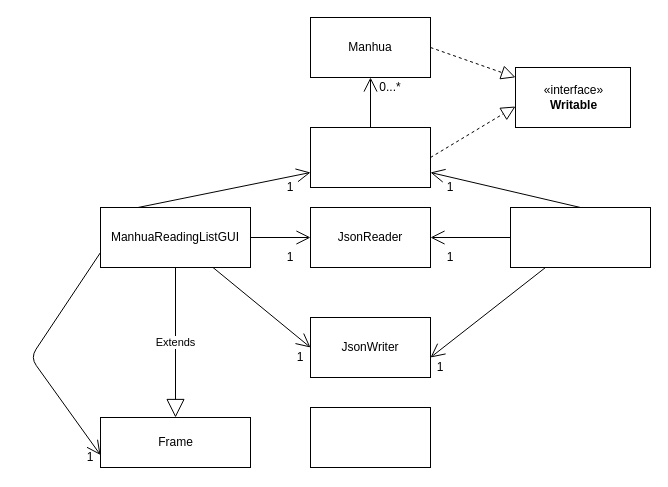
The diagram is 668 pixels wide and 487 high, and some of its shapes have lost their labels. The shapes that lost their labels are listed below. From the top down, each one's centre as x and y in pixels, then its label:
At pixel 370 157: "ManhuaList".
At pixel 580 237: "ManhuaReadingListApp".
At pixel 370 437: "Main".
